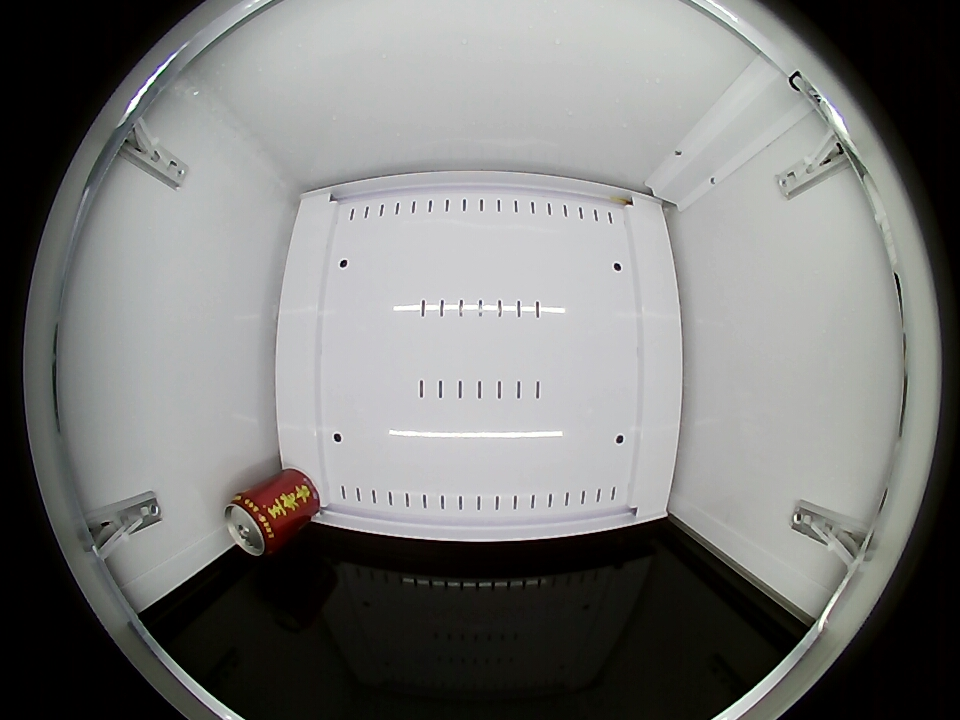wanglaoji-c: (224, 491, 281, 557)
